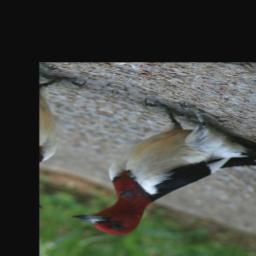Woodpecker: (64, 87, 256, 256)
